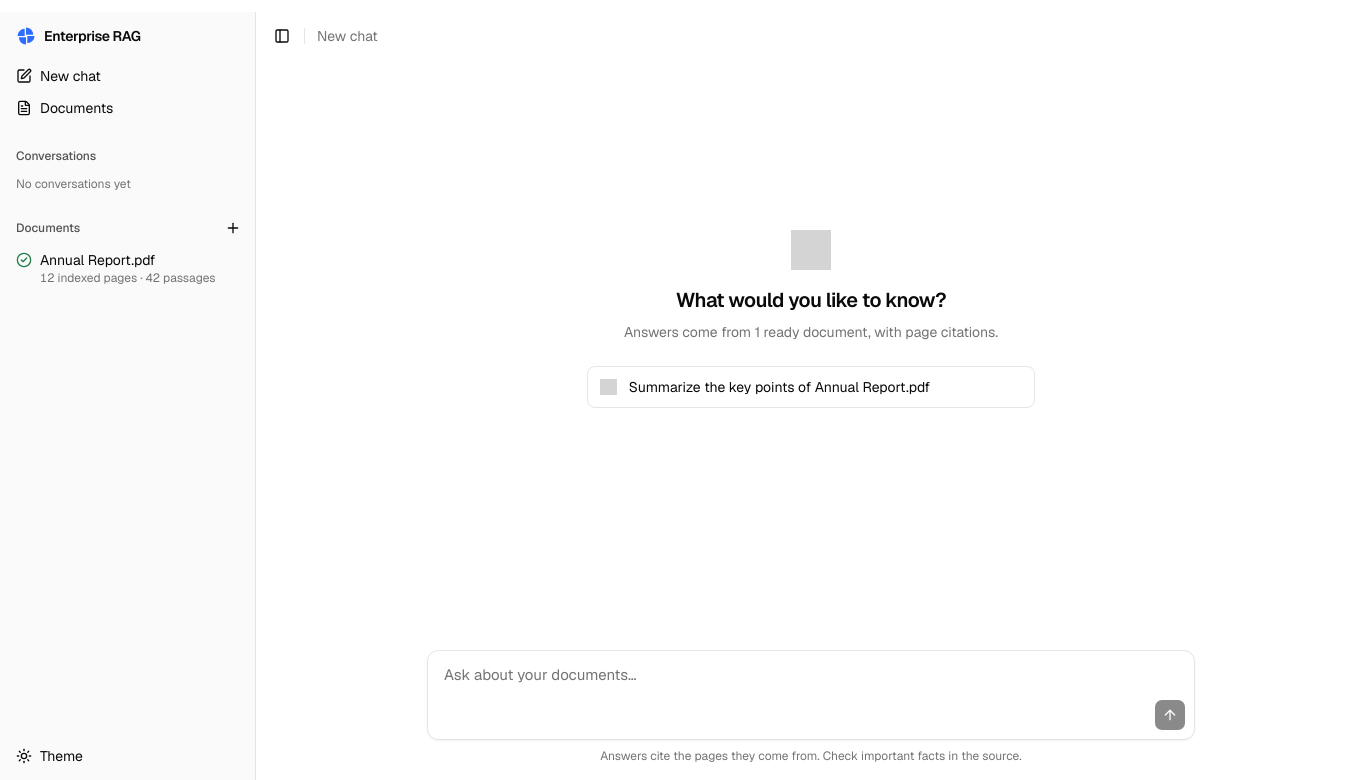
Test case: renders workspace answers as formatted text without Markdown symbols
Type "what documents are uploaded?" into the text box named "Question".
click(811, 675); type("what documents are uploaded?")  # box [428,651,1194,699]
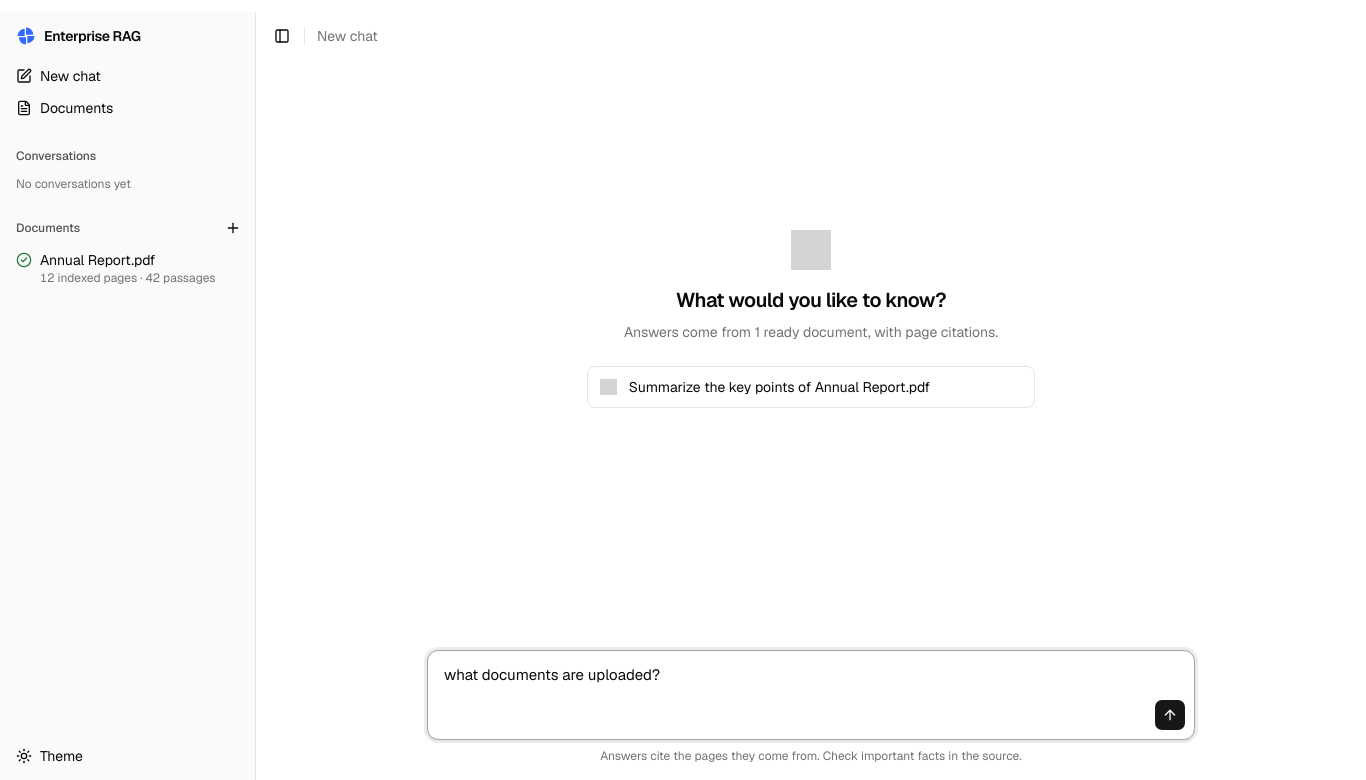
Press Enter
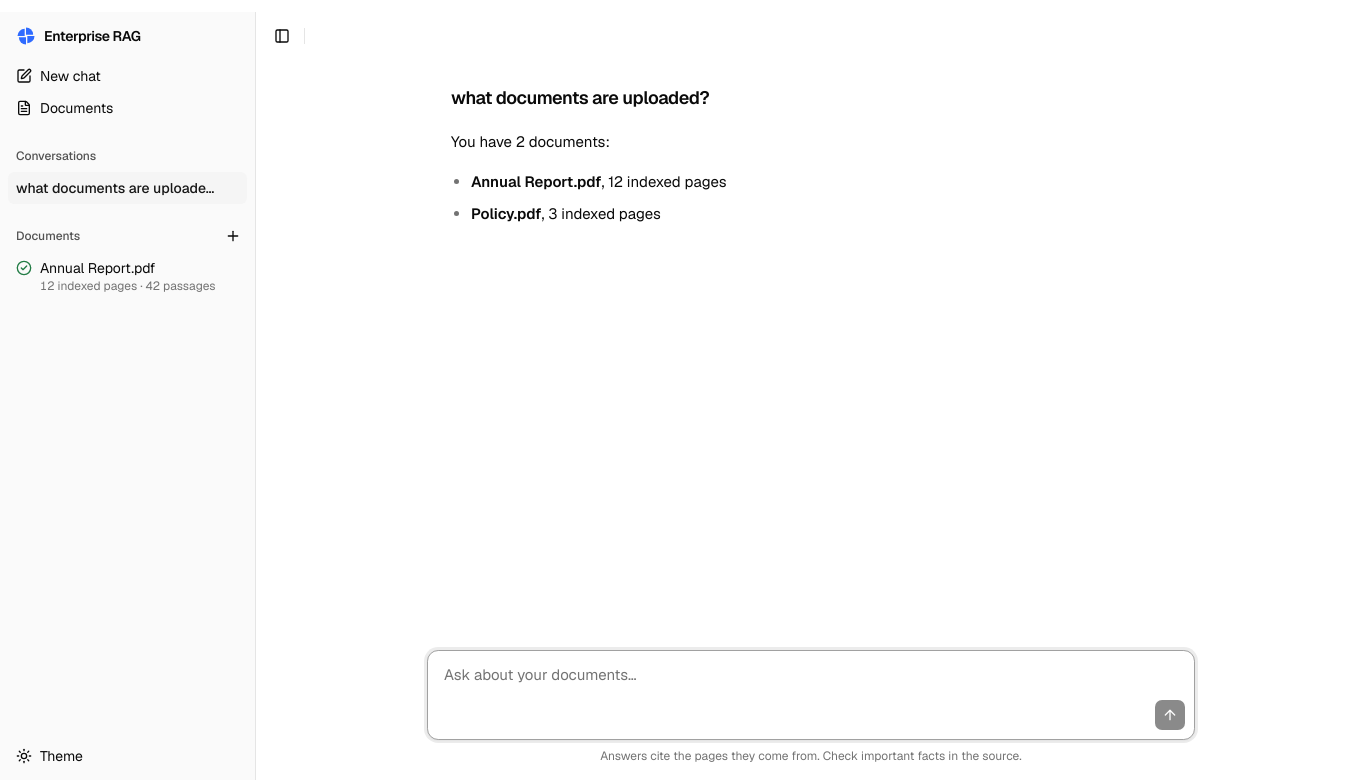
Now the list item "Annual Report.pdf" reads "Annual Report.pdf, 12 indexed pages", box [471,172,726,191]
